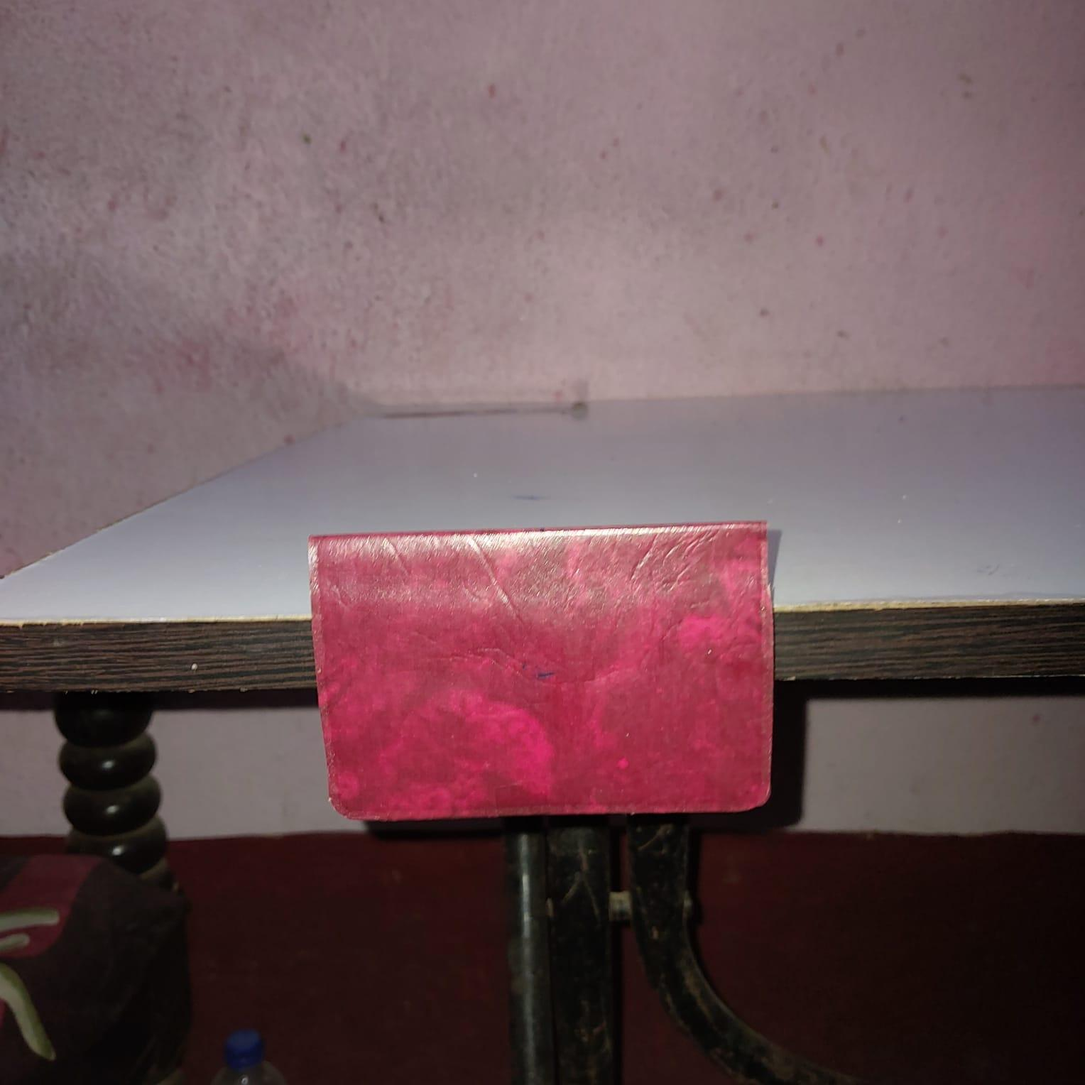wallet: (307, 526, 769, 817)
